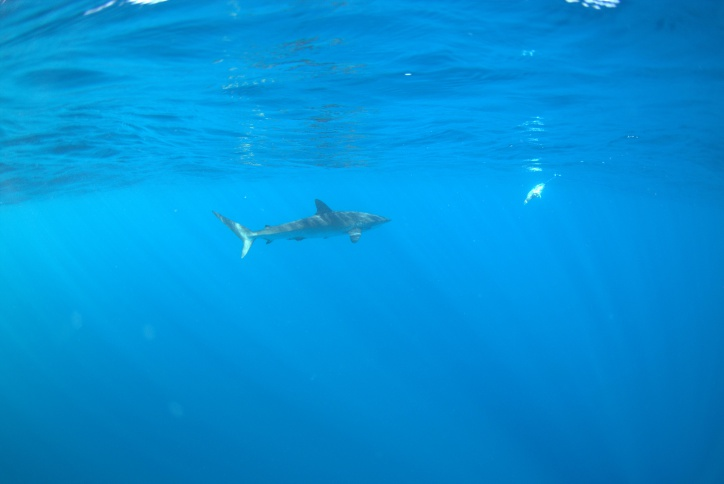Sedoso: (196, 193, 411, 266)
